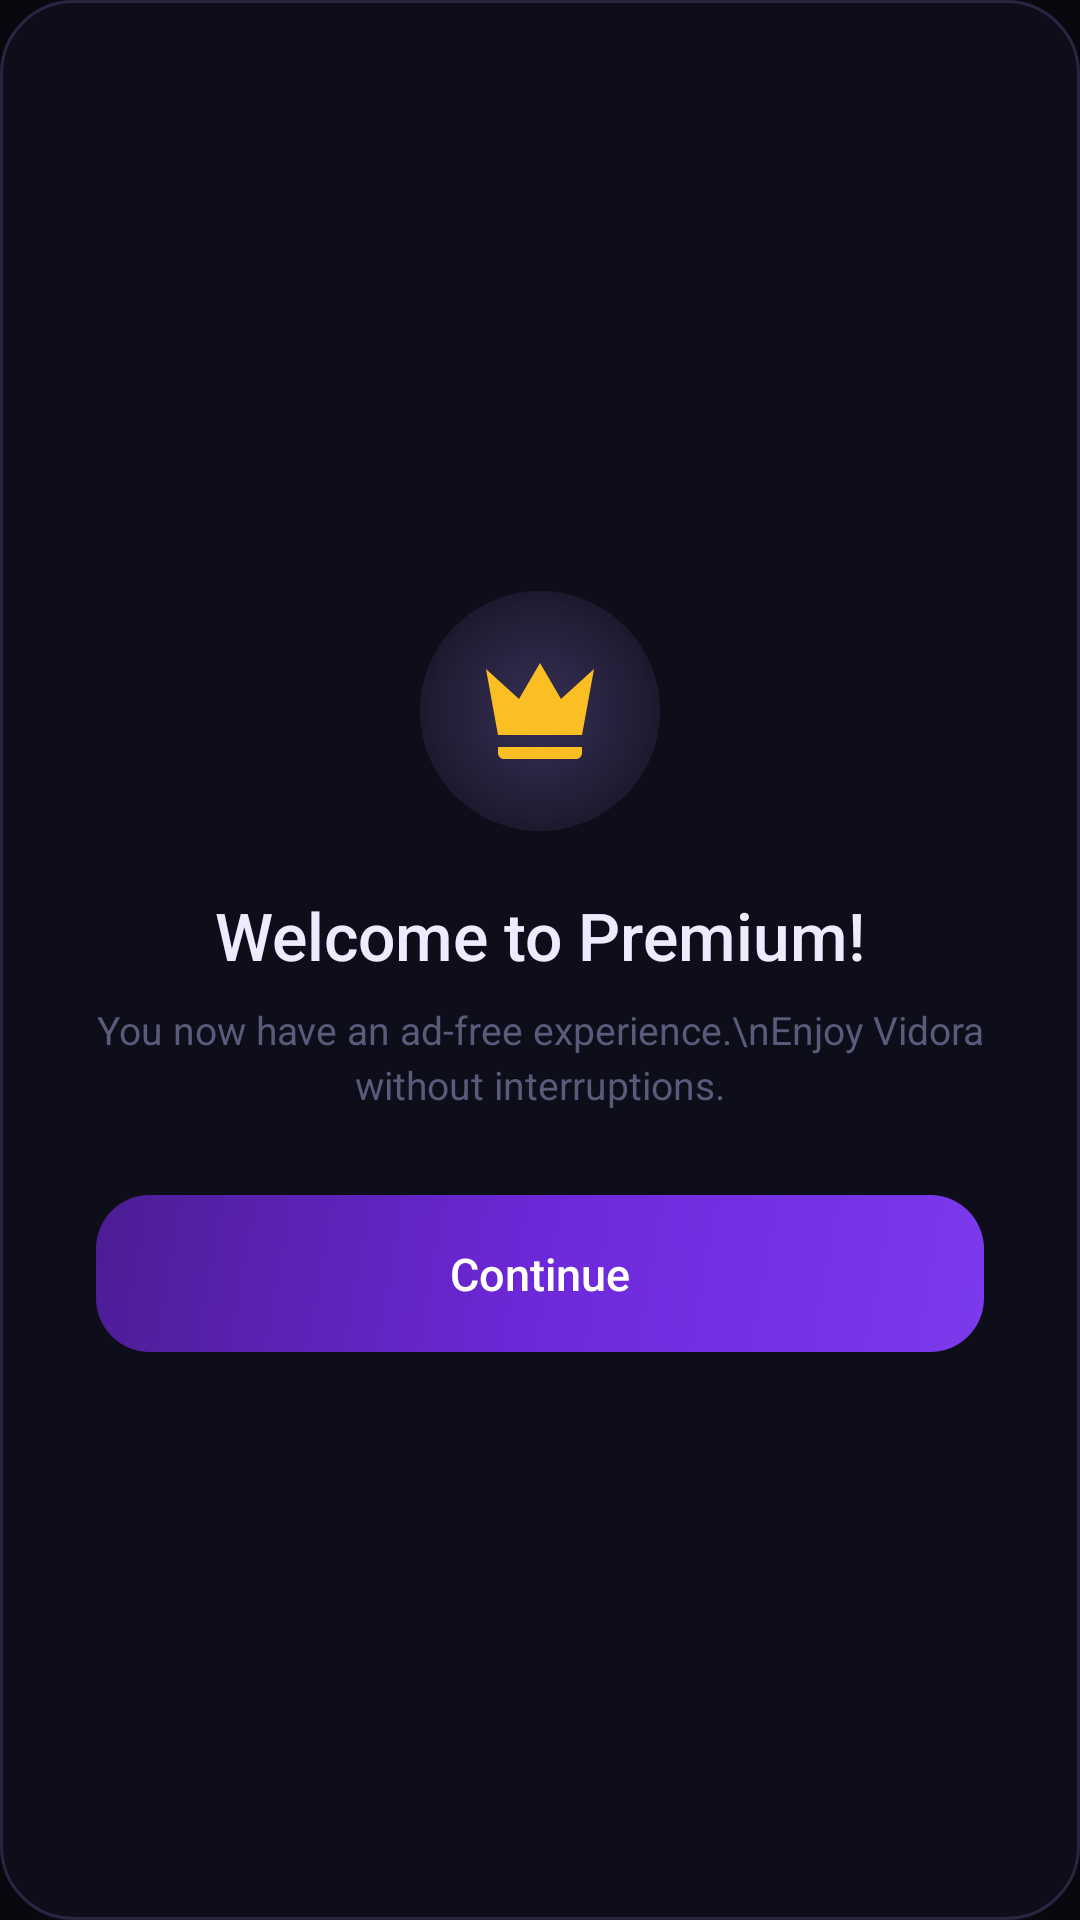

Icons on this 1080×1920 Android screen, each with its box as (x1=x1, y1=y1, x2=x2, y2=y2):
crown: (x1=486, y1=663, x2=594, y2=759)
